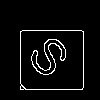S: (25, 25, 80, 82)
